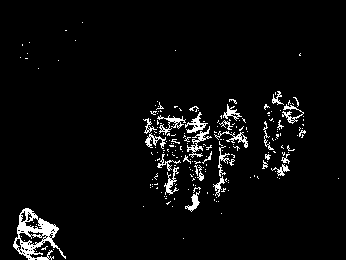person: (213, 97, 249, 201), (181, 103, 212, 213), (159, 103, 187, 209), (275, 94, 307, 178), (142, 99, 170, 190), (262, 86, 286, 171)
